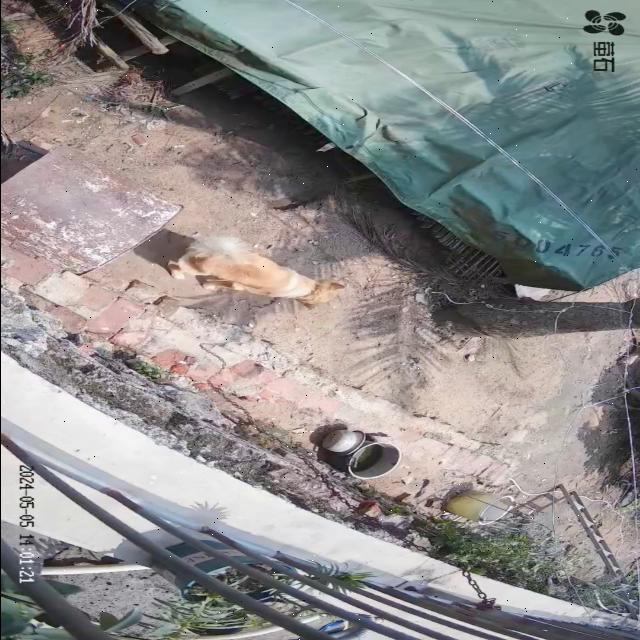dog: (167, 235, 347, 311)
